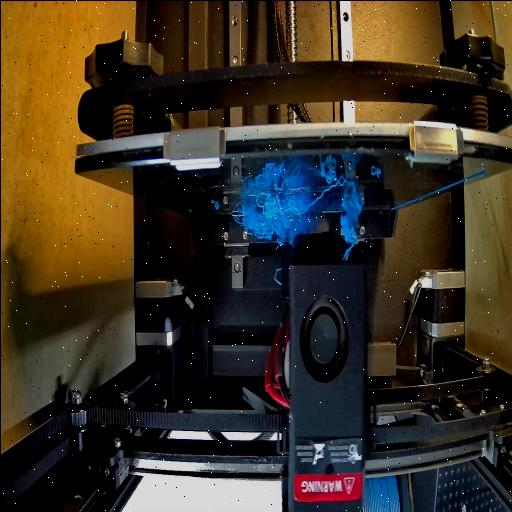spaghetti: (236, 196, 298, 240), (336, 178, 363, 240), (321, 168, 340, 194)
